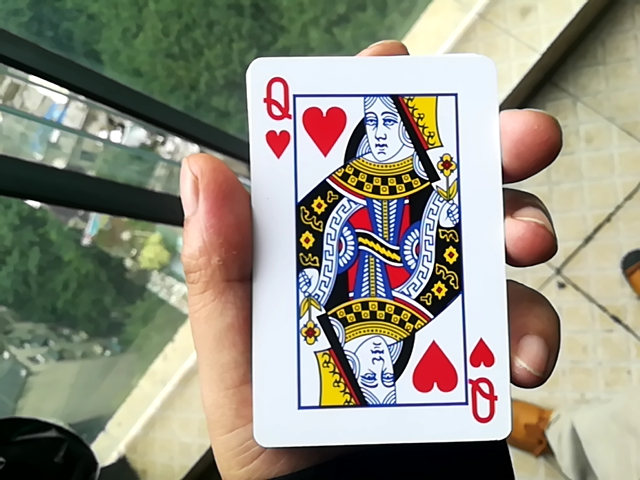hx q: (233, 45, 511, 448)
